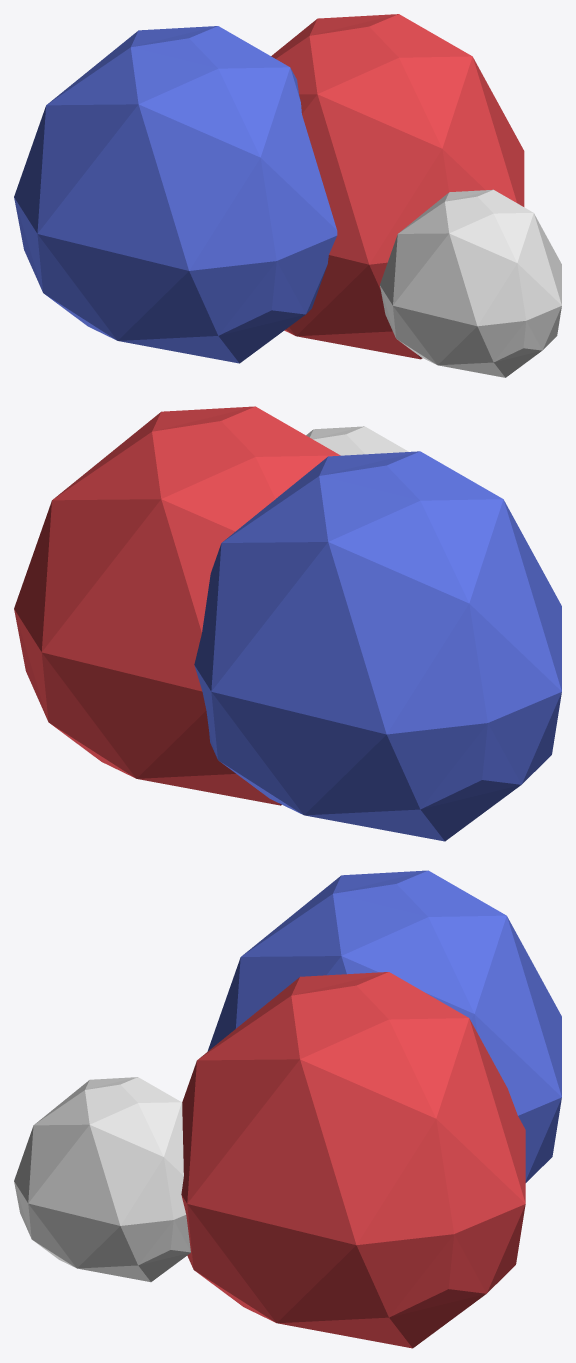
Rendered from Plastic.fbx.
The picture shows the model from 3 angles, top to bottom: view 1: azimuth 30°, elevation 25°; view 2: azimuth 150°, elevation 25°; view 3: azimuth 270°, elevation 25°; orthographic projection. The views are drawn at different scales.
Parts seen in each view (by area): view 1: GD_mesh.002; view 2: GD_mesh.002; view 3: GD_mesh.002.
Part boxes in pixels (x1,y1,x2,y2): GD_mesh.002: (14, 14, 561, 377); GD_mesh.002: (14, 406, 561, 841); GD_mesh.002: (14, 870, 561, 1348).
Size of the model in its own units: 302 by 191 by 280.
